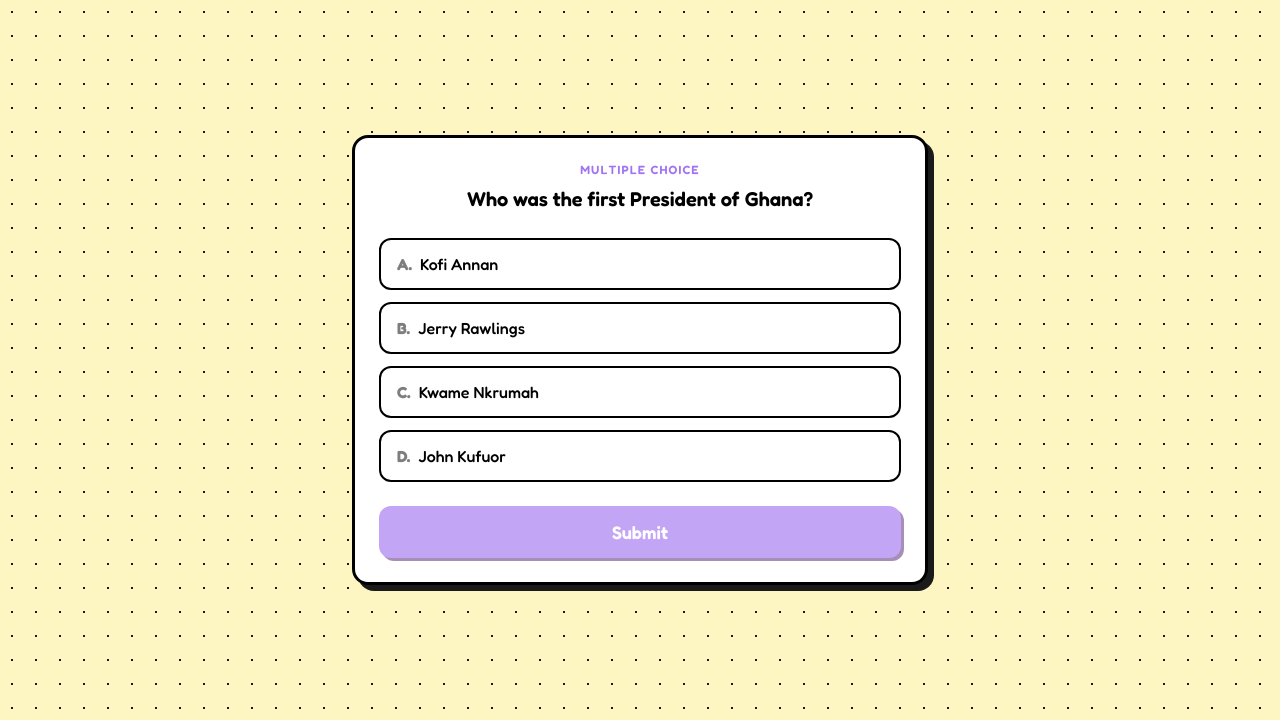
Test: QuestionCard — instant feedback › hides submit button after submission
Click the button "C.Kwame Nkrumah": (479,392) [379, 366, 901, 418]
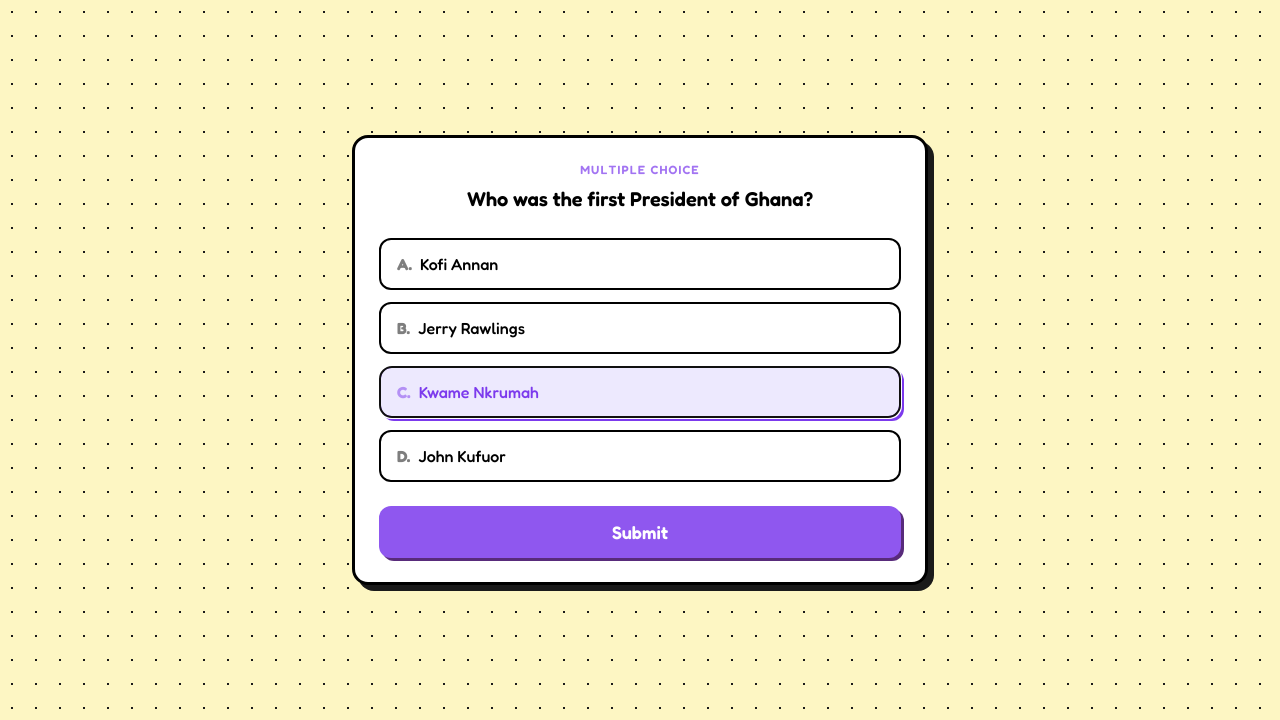
Click the button "Submit": (640,532) [379, 506, 901, 558]
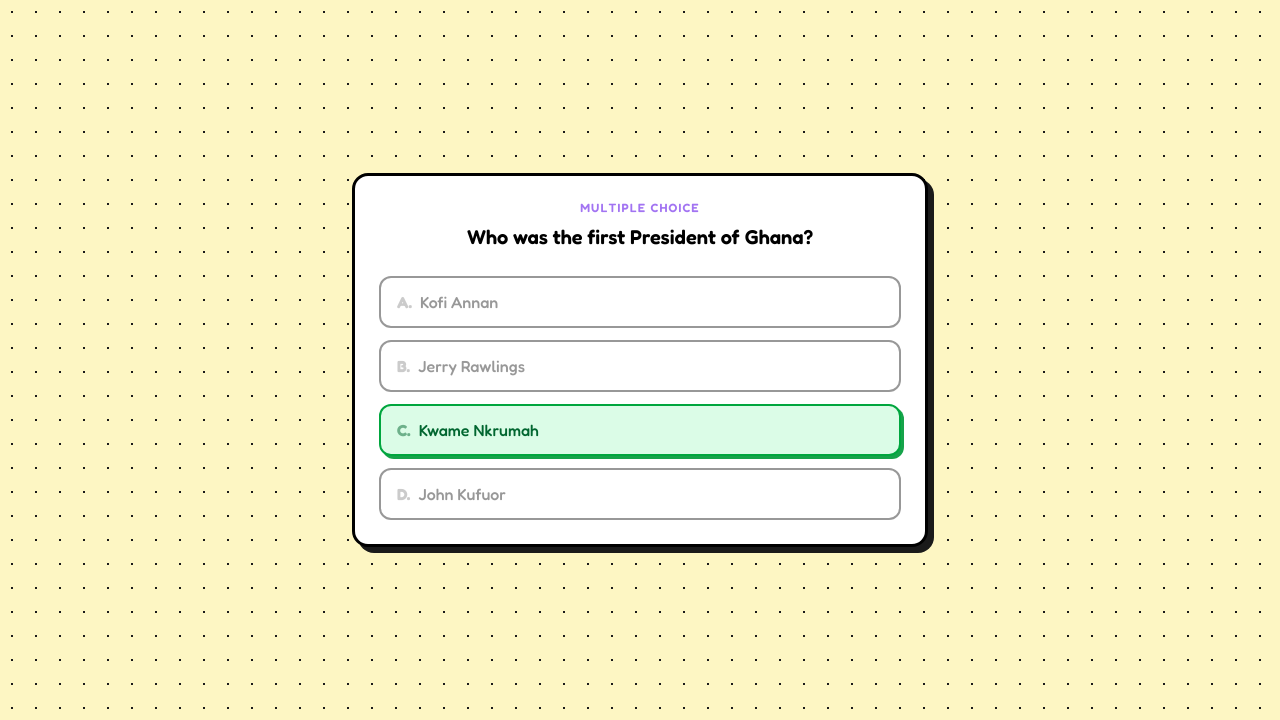
Expected: the button "Submit" is gone
